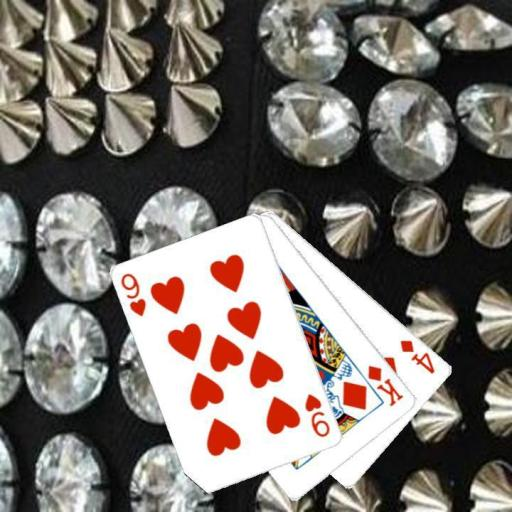card-corner: (365, 361, 405, 408), (397, 336, 437, 376), (302, 390, 332, 440), (118, 270, 148, 318)
